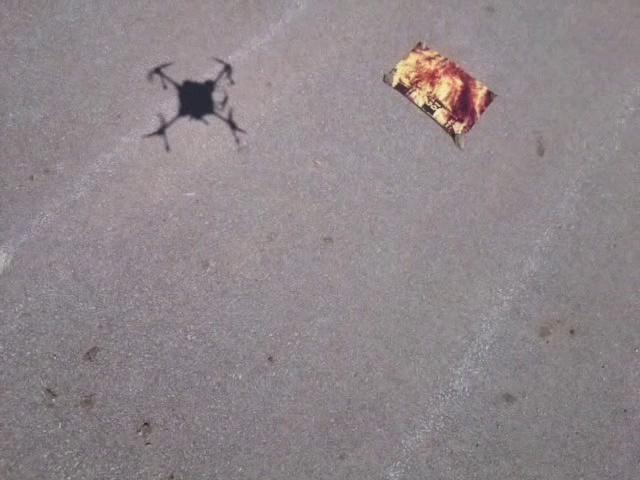fire-poster: (380, 39, 499, 151)
